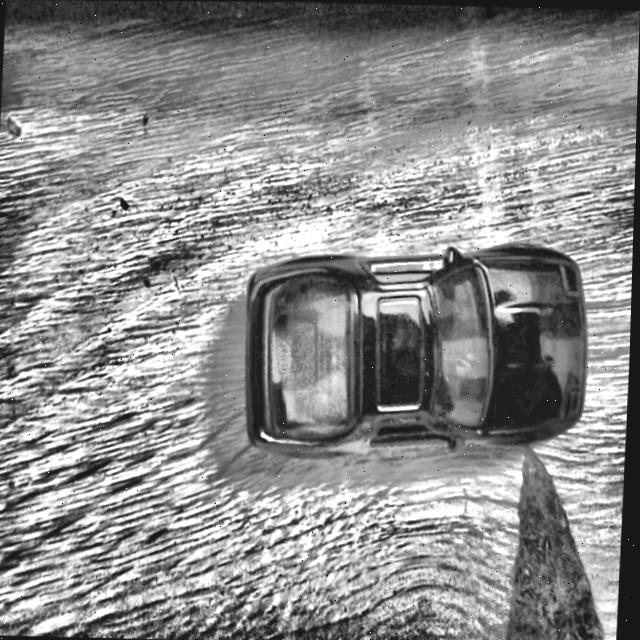car: (240, 234, 594, 463)
